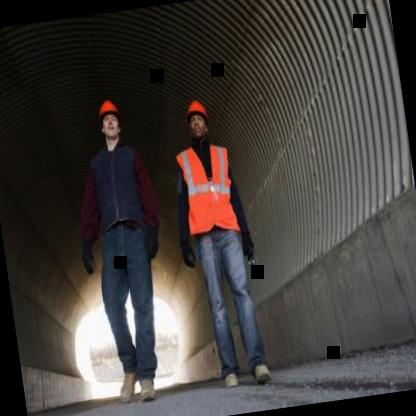helmet: (92, 93, 124, 145), (180, 96, 212, 146)
